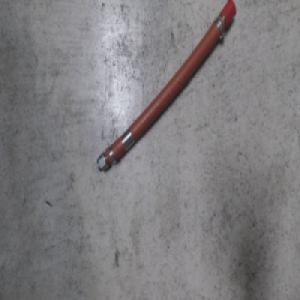Hose: (94, 0, 236, 175)
